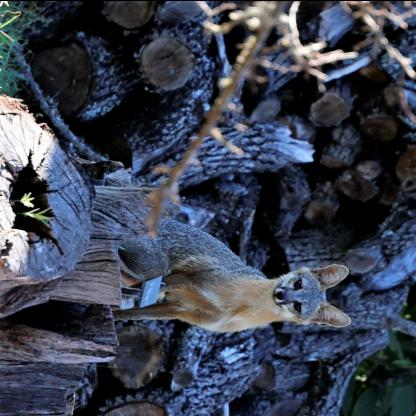zorro: (111, 203, 353, 344)
